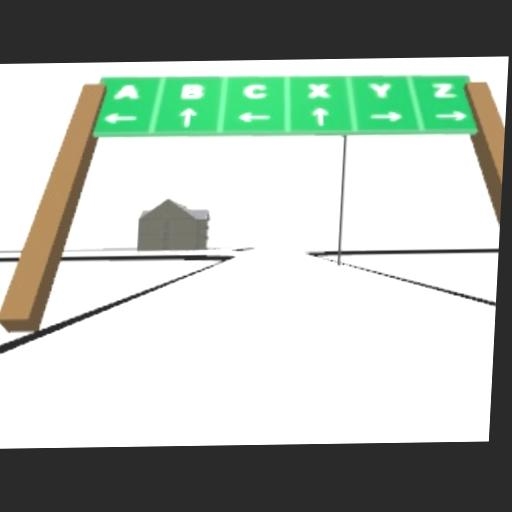A: (113, 81, 140, 99)
B: (179, 80, 204, 98)
C: (242, 81, 267, 97)
Left: (103, 110, 135, 122), (236, 110, 270, 120)
Right: (435, 109, 466, 119), (371, 110, 402, 120)
Straight: (178, 106, 196, 125), (311, 106, 329, 125)
X: (307, 81, 330, 96)
Y: (369, 82, 389, 97)
Z: (432, 80, 457, 97)
